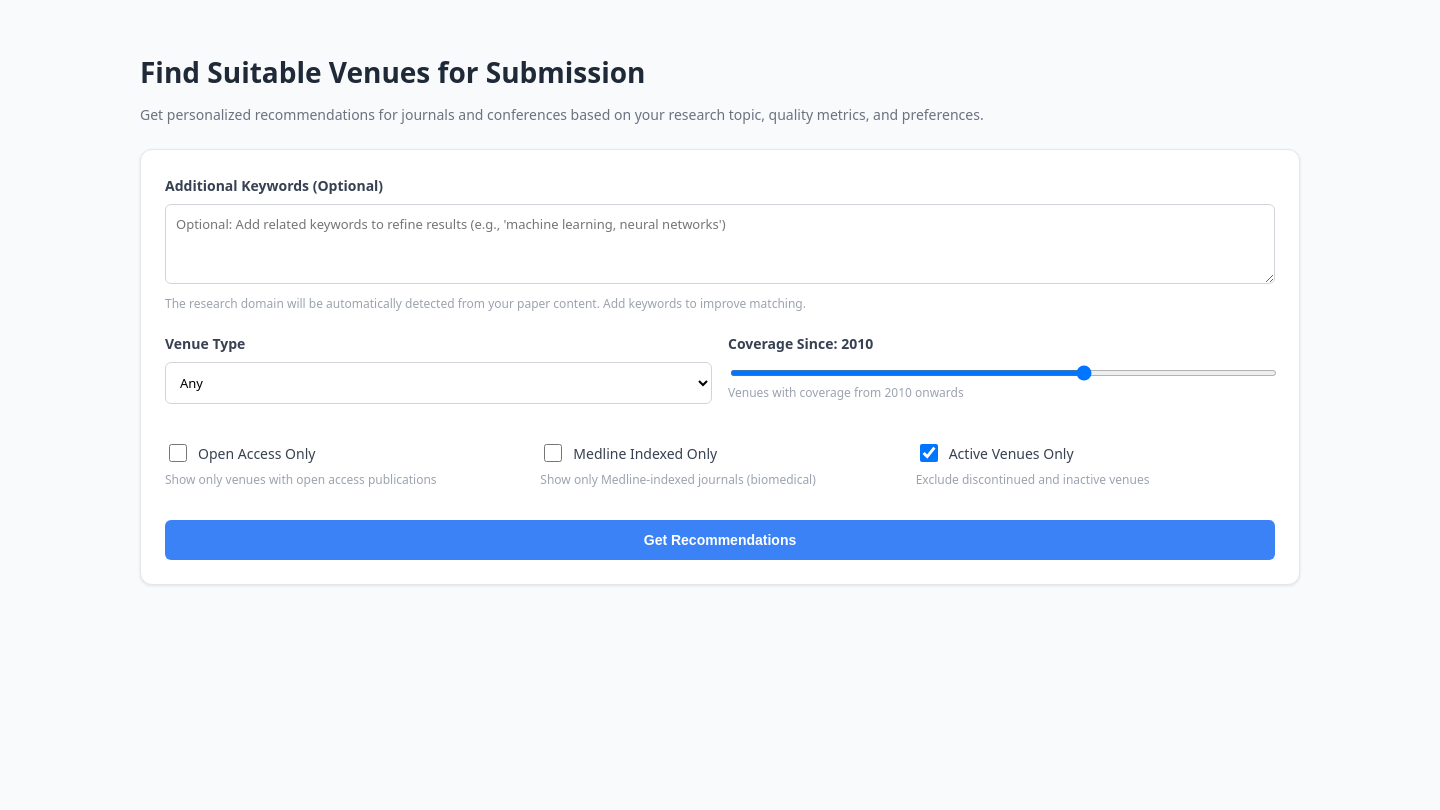
Test case: VenueRecommenderEnhanced › renders venues when API returns results
The image size is (1440, 810).
Click the button "Get Recommendations".
click(720, 540)  # box x1=165 y1=520 x2=1275 y2=560
(page scrolled)
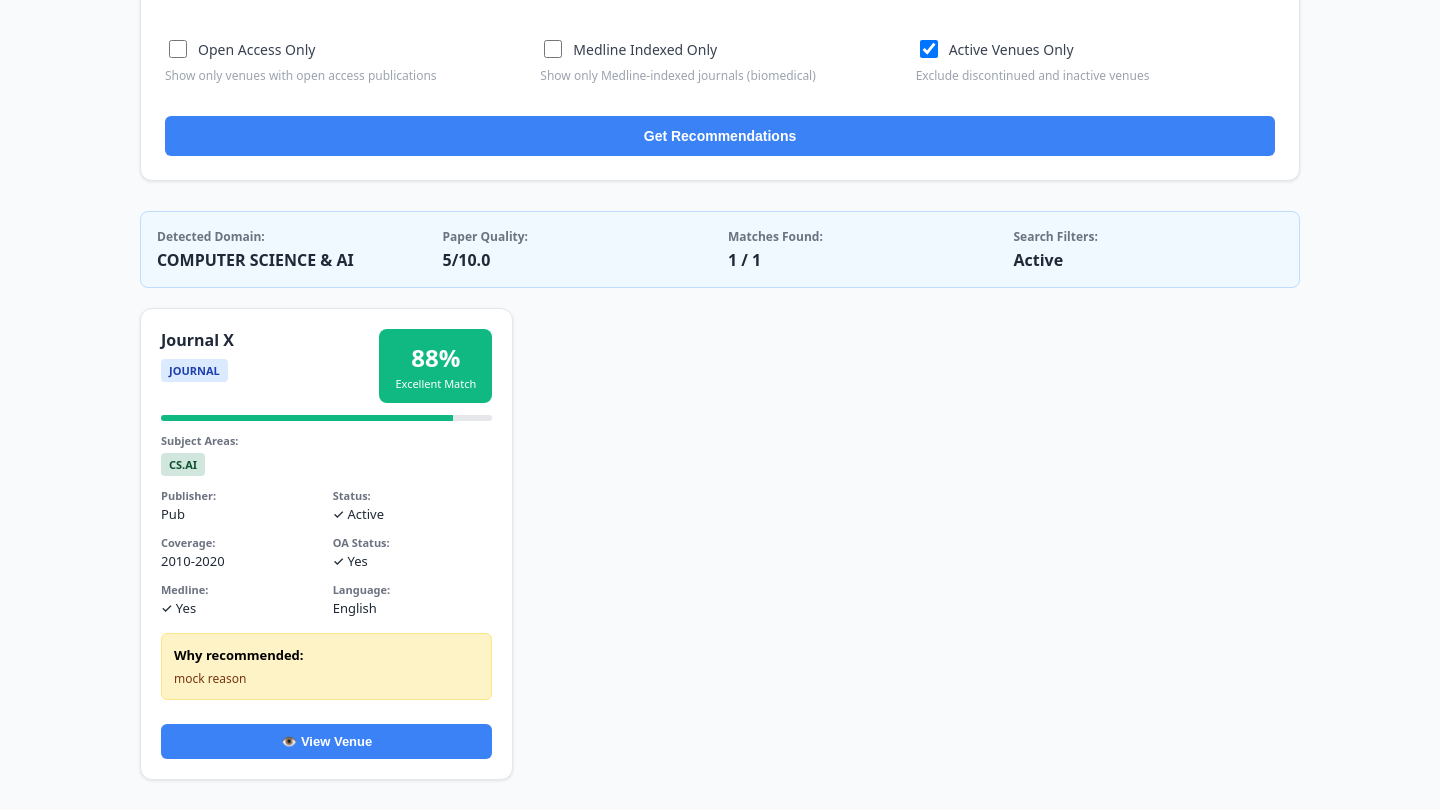
Now the heading "Journal X" is shown, box x1=161 y1=329 x2=234 y2=351
Now the text "Why recommended:" is shown, box x1=174 y1=646 x2=304 y2=664
Now the text "mock reason" is shown, box x1=174 y1=670 x2=246 y2=687
